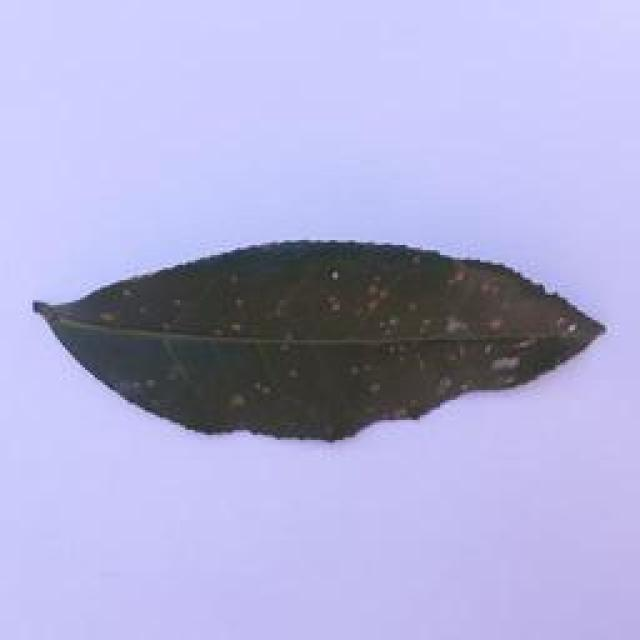Algal Leaf Spot: (22, 222, 626, 451)
